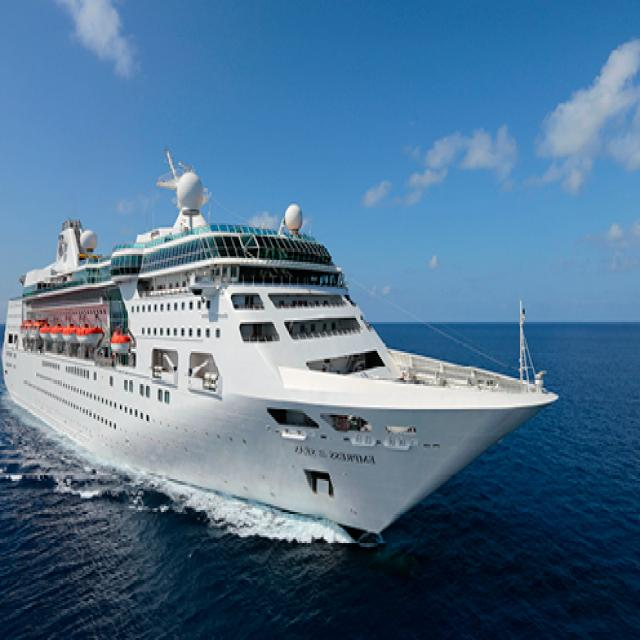passenger ship: (3, 163, 552, 538)
